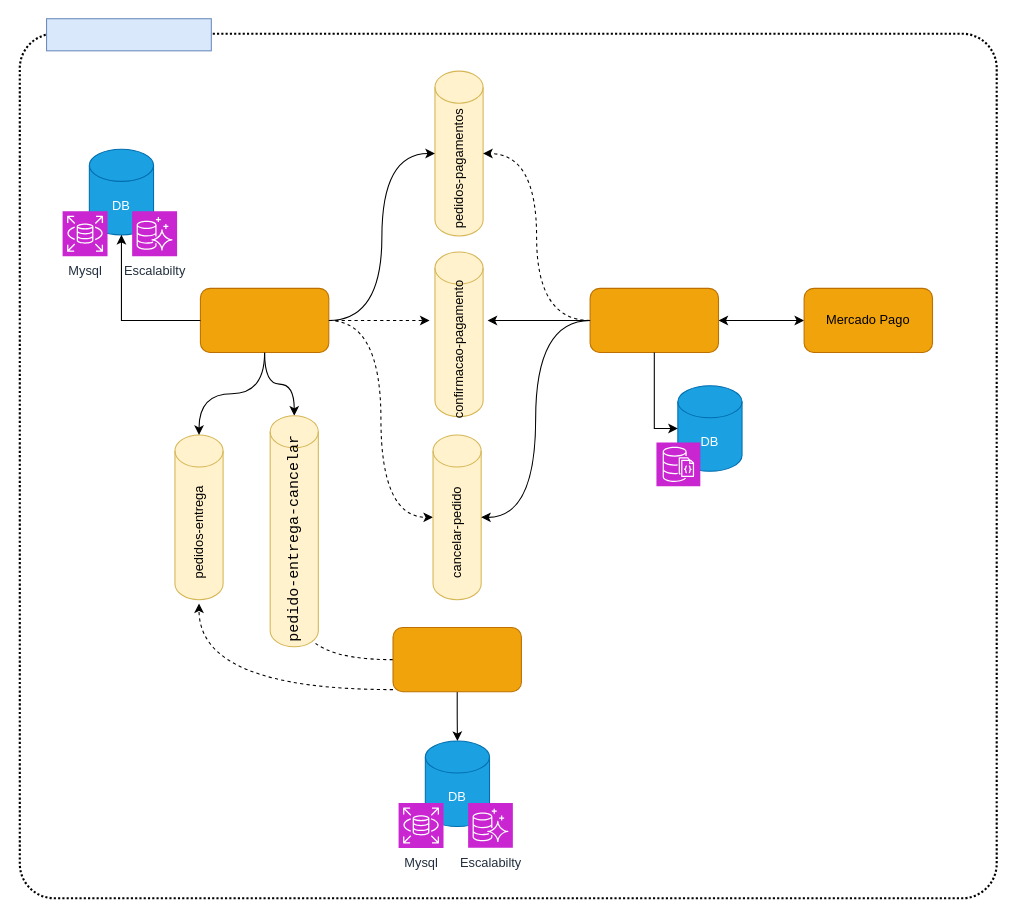
The diagram is 1015 pixels wide and 918 high, and some of its shapes have lost their labels. Here are the shapes that lost their labels. From the top down, the centre of each, then its label:
pixel 128 34: Componentes da aplicação
pixel 264 320: Pedidos
pixel 654 320: Pagamentos
pixel 677 463: DocumentDB
pixel 456 659: Entrega
